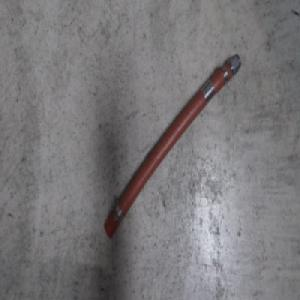Hose: (102, 52, 241, 242)
